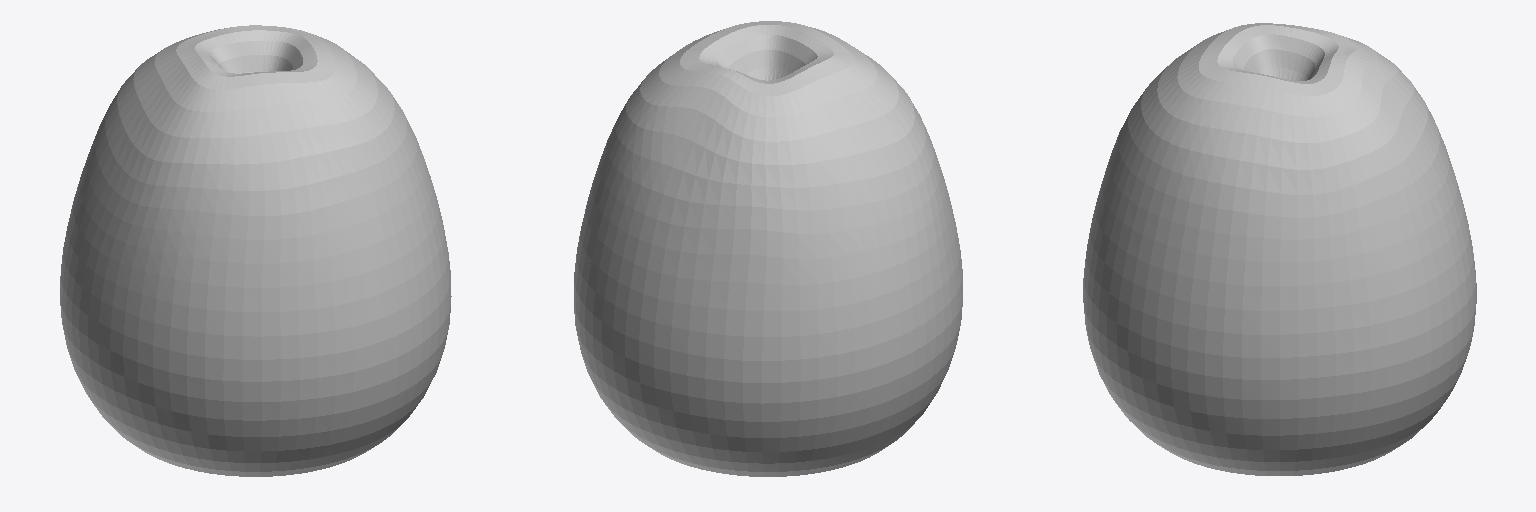
The model's file is apple.obj.
3 views of the same model, side by side, from view 1: azimuth 30°, elevation 25°; view 2: azimuth 150°, elevation 25°; view 3: azimuth 270°, elevation 25° (orthographic).
Visible parts, largest first — view 1: Sphere; view 2: Sphere; view 3: Sphere.
Boxes of the visible parts, box(x1,y1,x2,y2) form: Sphere: box(60, 25, 451, 476); Sphere: box(574, 21, 962, 476); Sphere: box(1083, 23, 1476, 475).
Size of the model in its own units: 0.1814 by 0.2123 by 0.1839.